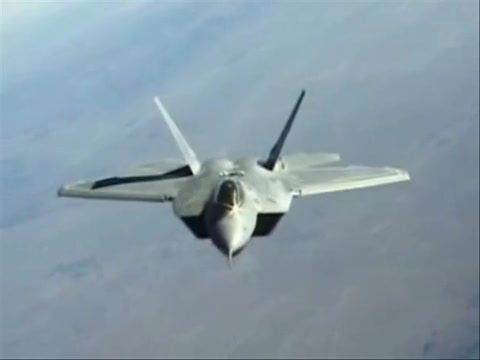aeroplane: (59, 89, 412, 265)
